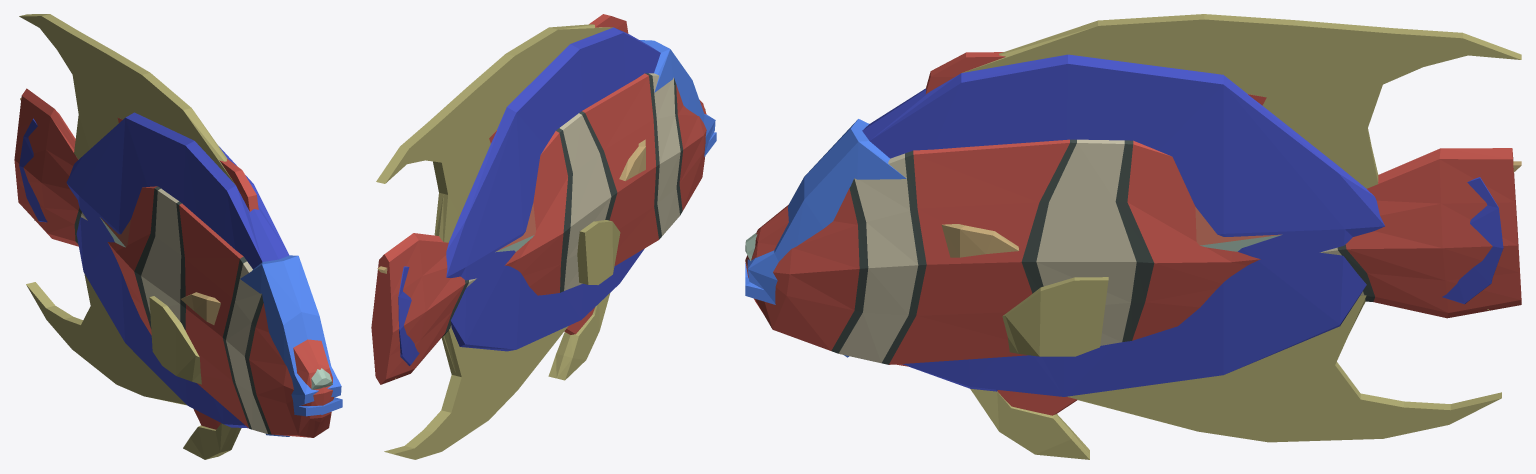
Rendered from reef-fish.glb.
3 views of the same model, side by side, from view 1: azimuth 30°, elevation 25°; view 2: azimuth 150°, elevation 25°; view 3: azimuth 270°, elevation 25° (orthographic). The views are drawn at different scales.
Visible parts, largest first — view 1: Fish2, Fish3, Fish1; view 2: Fish2, Fish3, Fish1; view 3: Fish2, Fish3, Fish1.
Boxes of the visible parts, box(x1,y1,x2,y2) form: Fish2: box(19, 14, 342, 459); Fish3: box(14, 88, 333, 437); Fish1: box(20, 98, 332, 389); Fish2: box(376, 24, 716, 459); Fish3: box(371, 14, 706, 384); Fish1: box(377, 109, 705, 379); Fish2: box(745, 14, 1521, 459); Fish3: box(745, 52, 1521, 415); Fish1: box(745, 161, 1521, 310).
Size of the model in its own units: 0.1445 by 0.6228 by 1.
